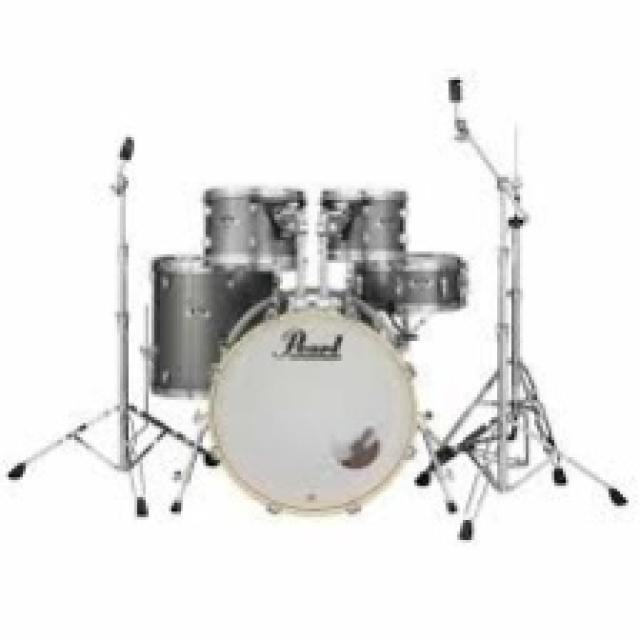drums: (9, 59, 630, 556)
